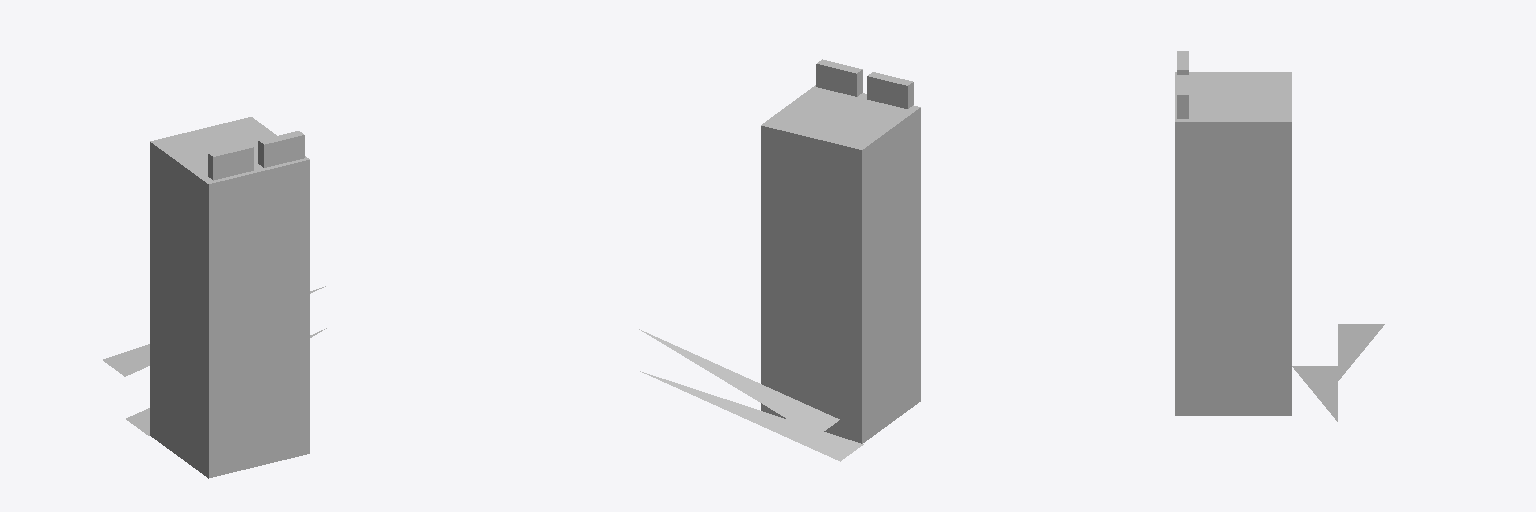
Rendered from x_full_wall2.obj.
The picture shows the model from 3 angles: view 1: azimuth 30°, elevation 25°; view 2: azimuth 150°, elevation 25°; view 3: azimuth 270°, elevation 25°; orthographic projection.
Parts seen in each view (by area): view 1: Middle, Stair2; view 2: Middle, Stair2, Stair1; view 3: Middle, Stair2, Stair1.
Boxes of the visible parts, x1=… form: Middle: x1=150, y1=117, x2=309, y2=478; Stair2: x1=103, y1=286, x2=325, y2=376; Middle: x1=761, y1=59, x2=920, y2=443; Stair2: x1=639, y1=329, x2=839, y2=436; Stair1: x1=640, y1=371, x2=863, y2=461; Middle: x1=1175, y1=51, x2=1291, y2=415; Stair2: x1=1338, y1=324, x2=1384, y2=380; Stair1: x1=1292, y1=366, x2=1337, y2=421.
Size of the model in its own units: 100 by 150 by 89.84.